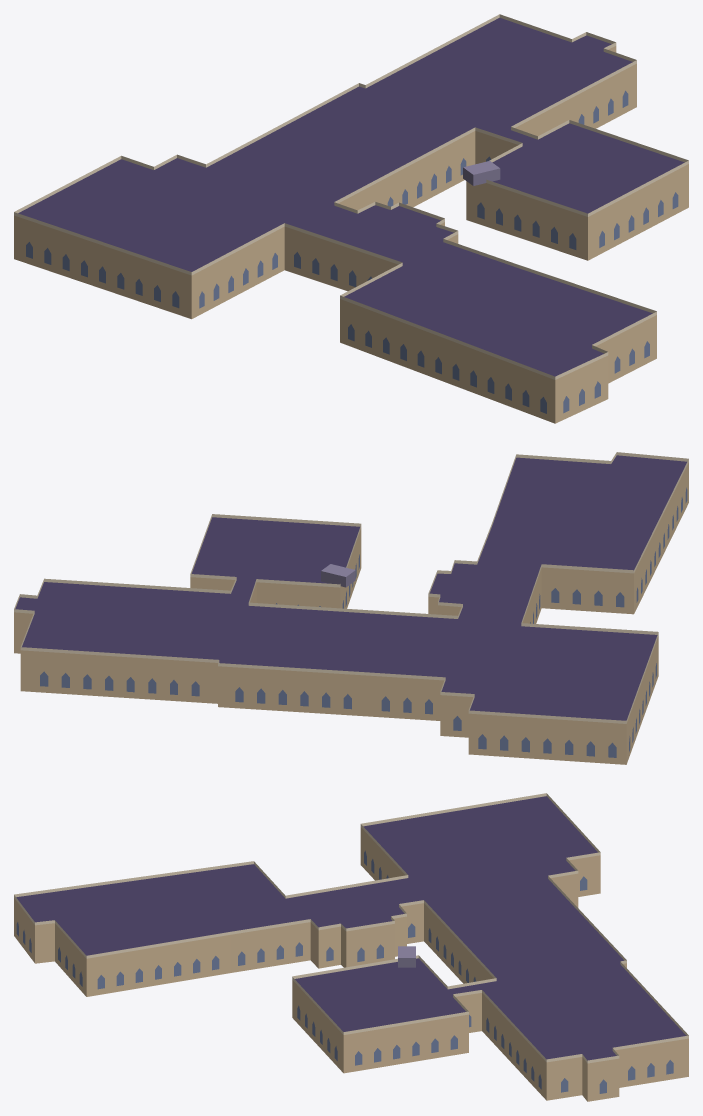
File: b-049-day.glb
The picture shows the model from 3 angles, top to bottom: view 1: azimuth 30°, elevation 25°; view 2: azimuth 150°, elevation 25°; view 3: azimuth 270°, elevation 25°; orthographic projection. The views are drawn at different scales.
Visible parts, largest first — view 1: campus/b-049-day-0; view 2: campus/b-049-day-0; view 3: campus/b-049-day-0.
Boxes of the visible parts, <box> form: campus/b-049-day-0: <box>14,14,688,423</box>; campus/b-049-day-0: <box>14,452,688,764</box>; campus/b-049-day-0: <box>14,793,688,1101</box>.
Size of the model in its own units: 105 by 8.8 by 112.
